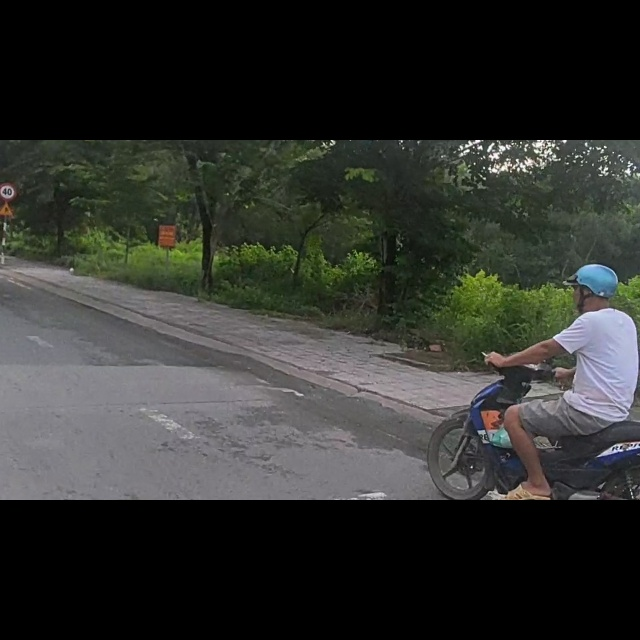bien_nguy_hiem: (1, 108, 15, 136), (1, 78, 15, 104)
